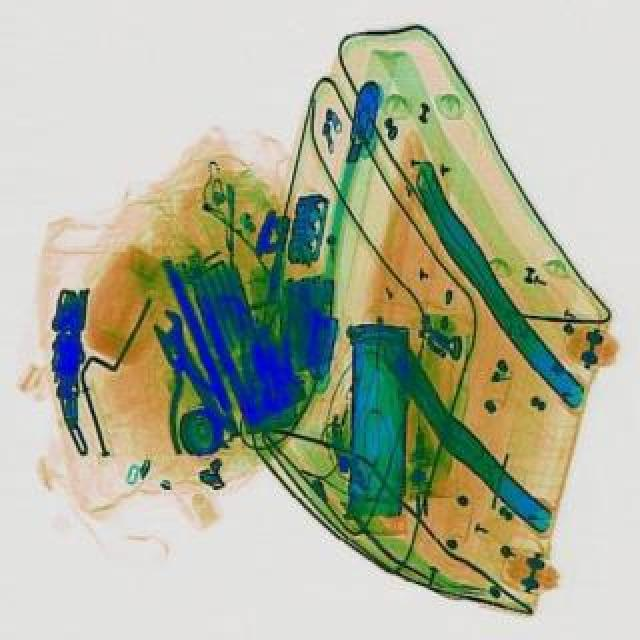scissors: (140, 302, 244, 446)
wrench: (136, 330, 240, 454)
